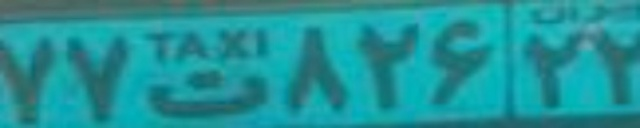2: (356, 22, 414, 109), (526, 29, 582, 107), (592, 28, 637, 103)
6: (428, 21, 491, 107)
7: (65, 35, 123, 120), (0, 36, 54, 125)
8: (279, 25, 351, 114)
te: (145, 69, 269, 117)
